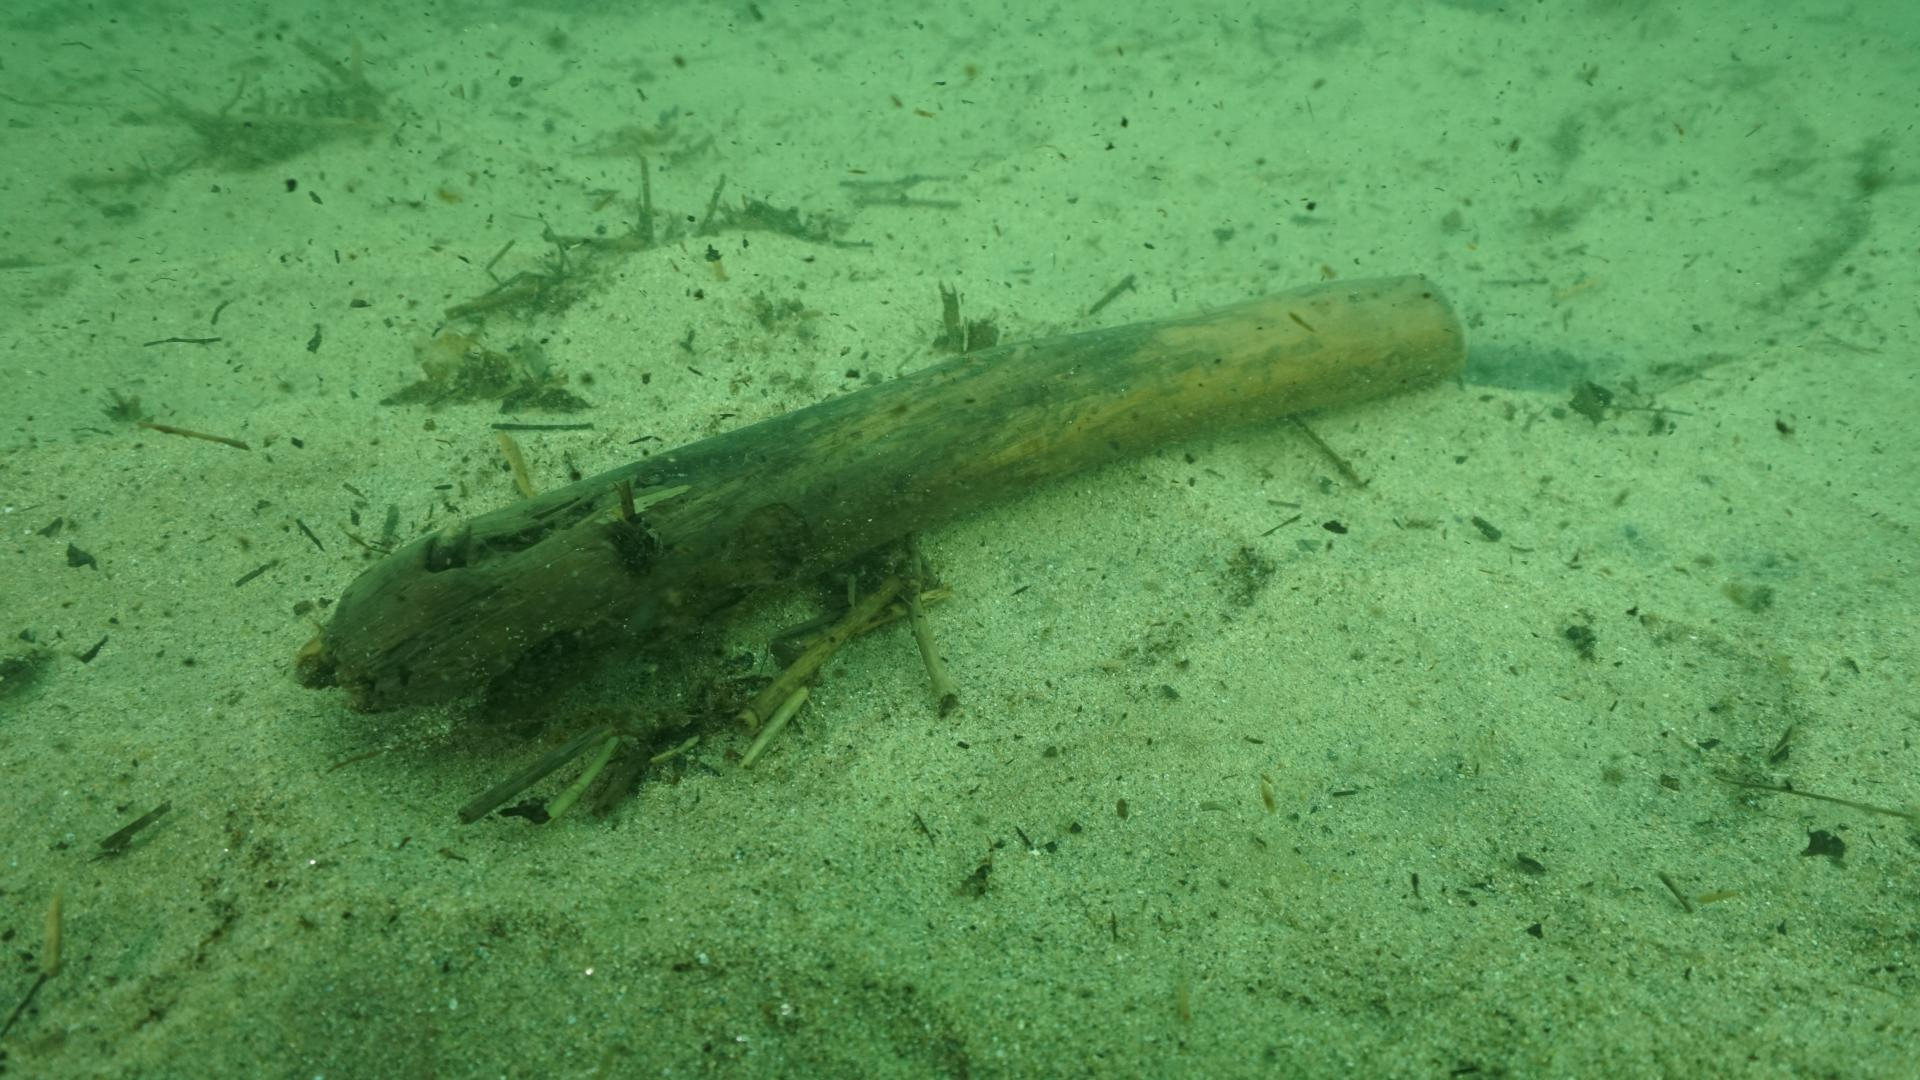wood: (291, 272, 1462, 711)
